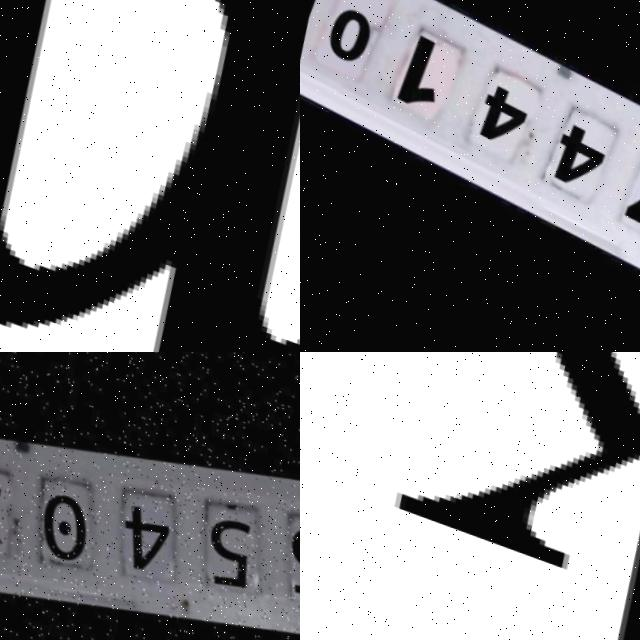0: (13, 463, 113, 582), (306, 0, 387, 86)
1: (383, 22, 467, 127)
3: (0, 452, 29, 569)
4: (95, 474, 194, 589), (530, 97, 620, 210), (455, 58, 543, 168)
5: (181, 484, 280, 606), (260, 492, 300, 610)
7: (606, 136, 640, 246)
K: (300, 352, 640, 640)
N: (0, 0, 300, 352)
